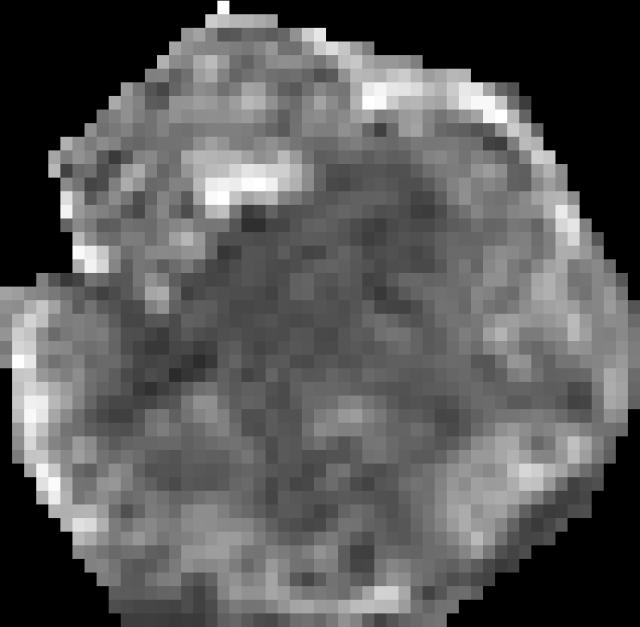tumor_moderate_chance: (0, 1, 640, 627)
